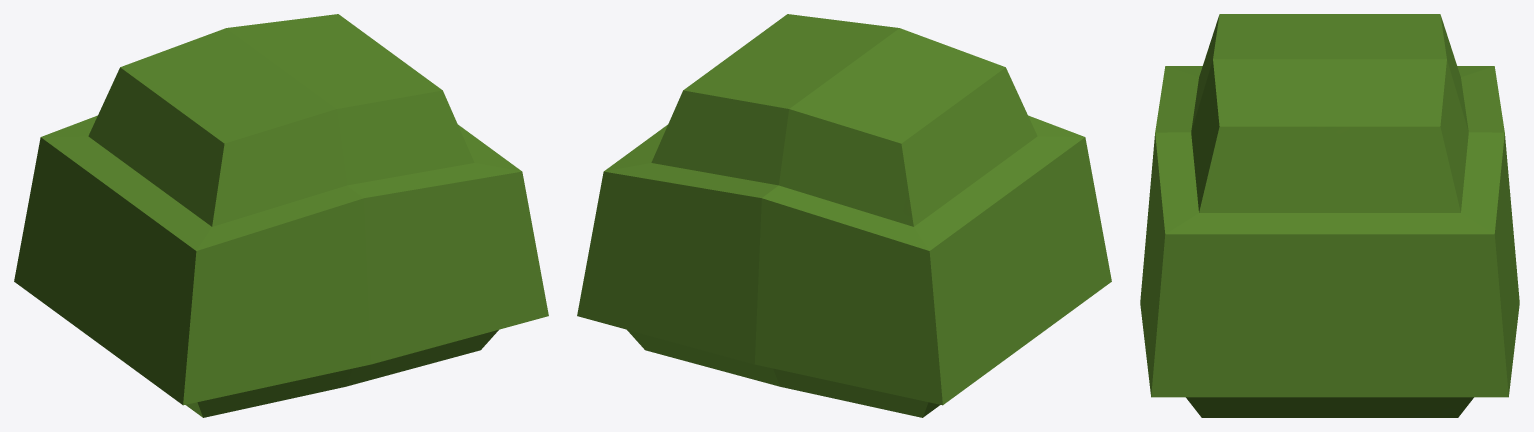
File: kit-boulder.glb
The picture shows the model from 3 angles, left to right: view 1: azimuth 30°, elevation 25°; view 2: azimuth 150°, elevation 25°; view 3: azimuth 270°, elevation 25°; orthographic projection. The views are drawn at different scales.
Visible parts, largest first — view 1: Cube.047; view 2: Cube.047; view 3: Cube.047.
Part boxes in pixels (x1=…): Cube.047: x1=14, y1=14, x2=548, y2=417; Cube.047: x1=577, y1=14, x2=1111, y2=417; Cube.047: x1=1140, y1=14, x2=1519, y2=417.
Bounding box in the file's own units: 2.16 × 1.53 × 1.83.
Materials: 1 (1 with a texture image).
